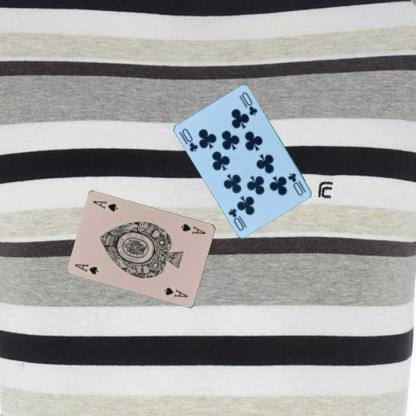10c: (286, 170, 308, 197), (180, 126, 199, 153)
As: (72, 261, 100, 276), (178, 221, 207, 235)
